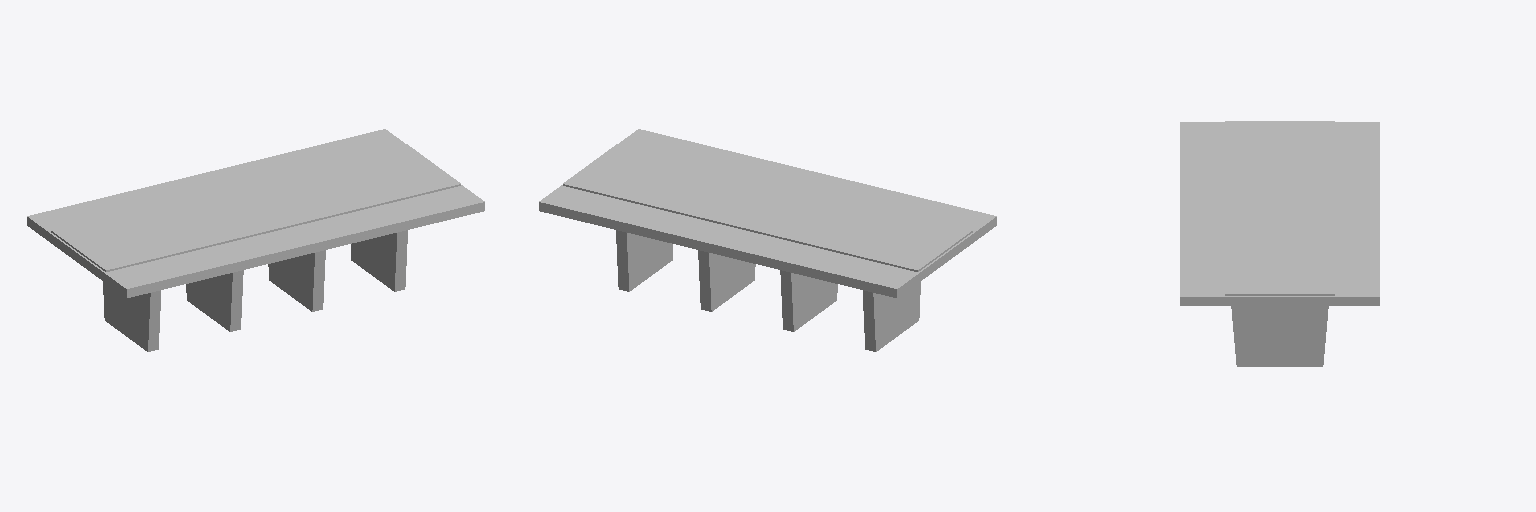
The model's file is SM_Mesa_Reuniones.obj.
3 views of the same model, side by side, from view 1: azimuth 30°, elevation 25°; view 2: azimuth 150°, elevation 25°; view 3: azimuth 270°, elevation 25° (orthographic).
Visible parts, largest first — view 1: Mesa_Reuniones; view 2: Mesa_Reuniones; view 3: Mesa_Reuniones.
Boxes of the visible parts, <box> form: Mesa_Reuniones: <box>27,129,484,351</box>; Mesa_Reuniones: <box>539,129,996,351</box>; Mesa_Reuniones: <box>1180,121,1379,366</box>.
Bounding box in the file's own units: 155 × 40.19 × 74.52.